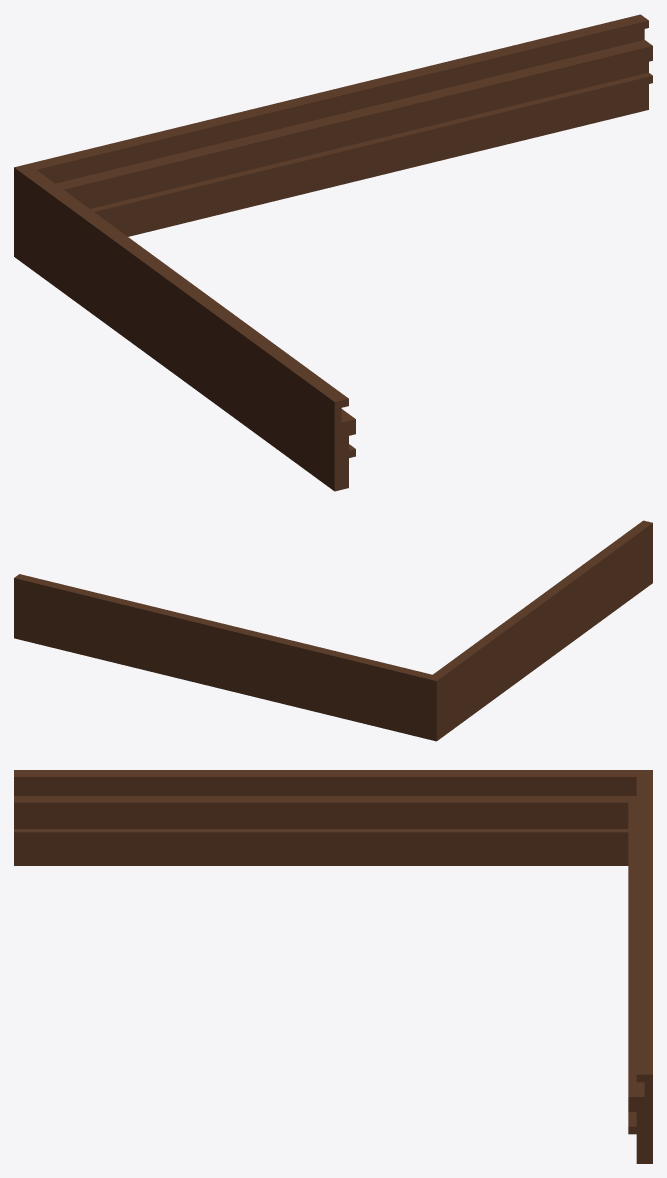
Rendered from ygol_plintus.obj.
3 views of the same model, one above another, from view 1: azimuth 30°, elevation 25°; view 2: azimuth 150°, elevation 25°; view 3: azimuth 270°, elevation 25° (orthographic). The views are drawn at different scales.
Size of the model in its own units: 8.8 by 1.2 by 7.8.
Materials: 1 (1 with a texture image).
